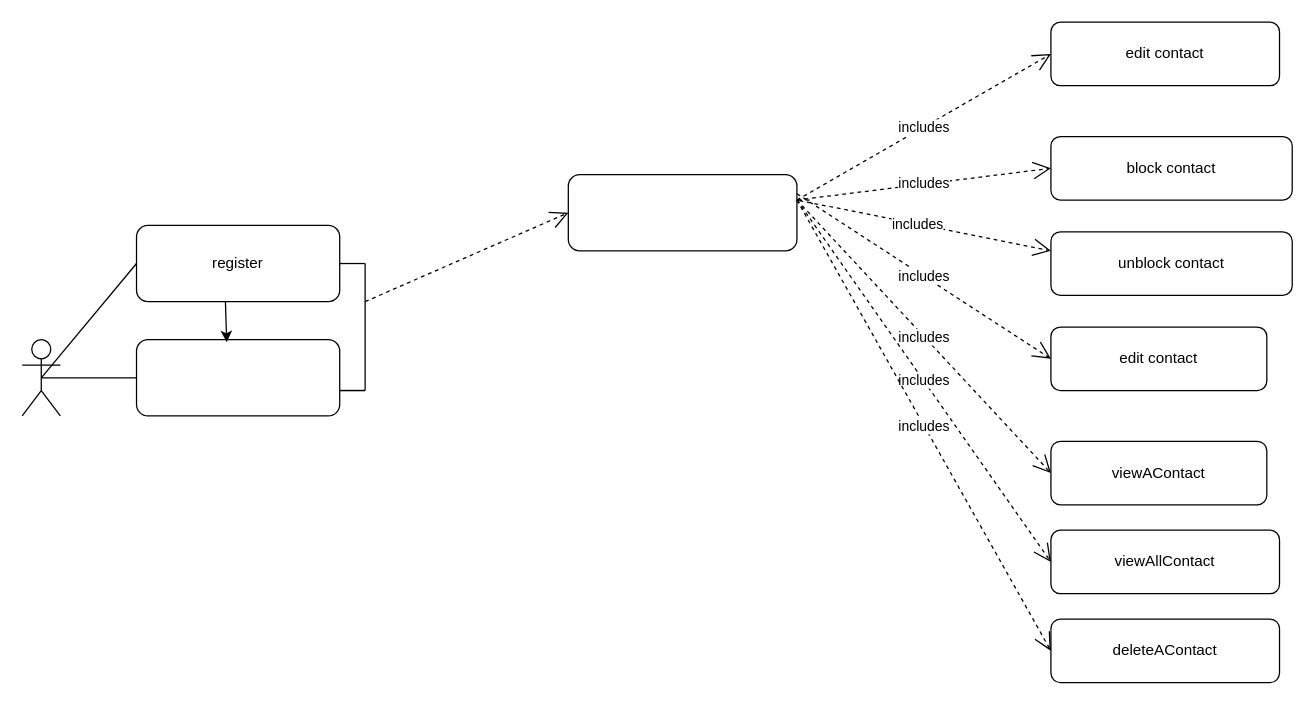
This 1314x705 diagram has some shape labels left out. The shapes that lost their labels are listed below. From the top down, each one's centre as x and y in pixels, then its label:
At point 682,212: "addContact".
At point 40,377: "Actor".
At point 237,377: "login".
